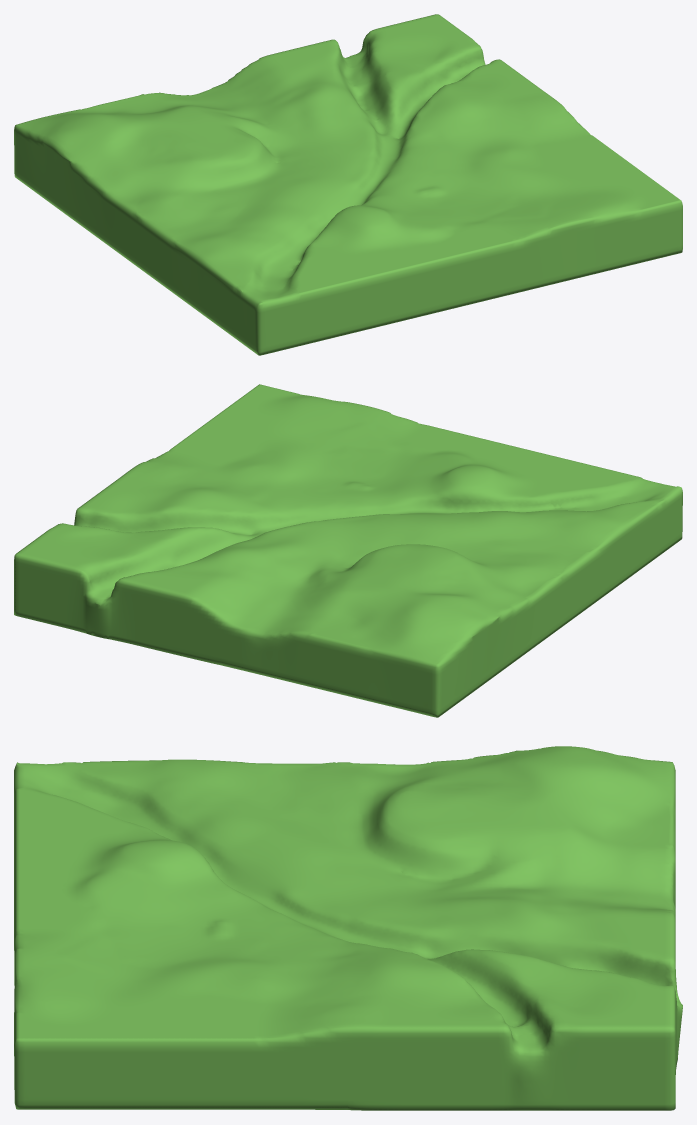
The model's file is groundplane.fbx.
3 views of the same model, one above another, from view 1: azimuth 30°, elevation 25°; view 2: azimuth 150°, elevation 25°; view 3: azimuth 270°, elevation 25° (orthographic). The views are drawn at different scales.
Visible parts, largest first — view 1: groundplane; view 2: groundplane; view 3: groundplane.
Boxes of the visible parts, left/top/right/bottom form: groundplane: left=14, top=14, right=682, bottom=355; groundplane: left=14, top=384, right=682, bottom=717; groundplane: left=14, top=746, right=682, bottom=1110.
Bounding box in the file's own units: 22446 × 3689 × 22528.
